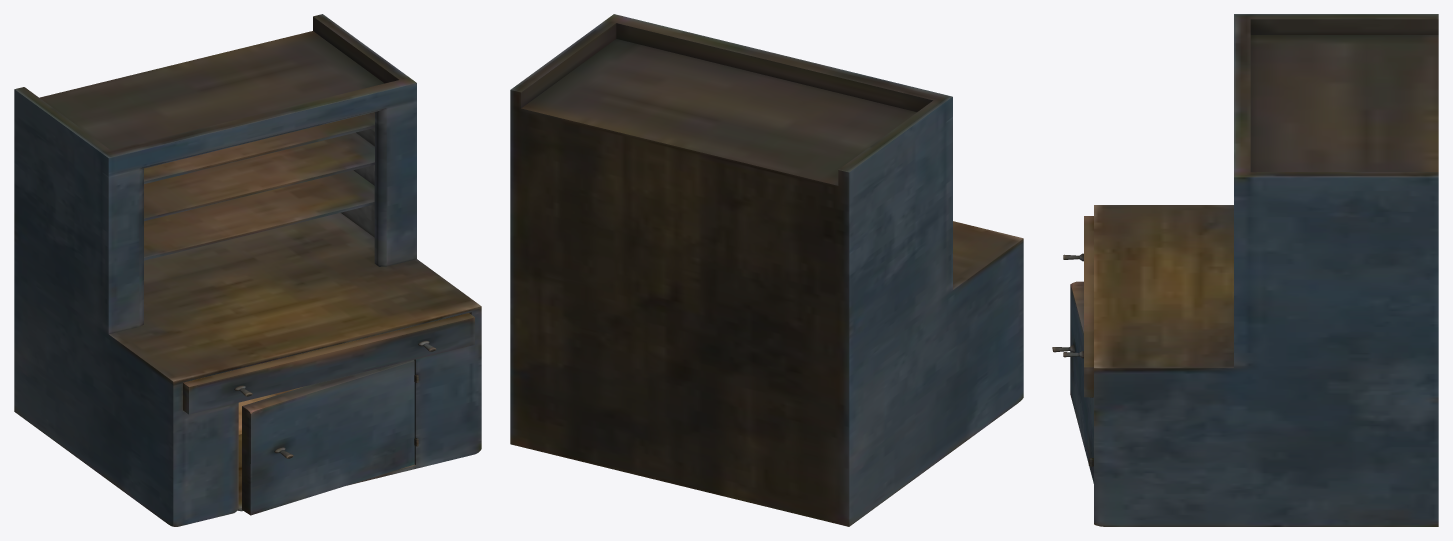
The model's file is ph-painted-wooden-cabinet-02.glb.
3 views of the same model, side by side, from view 1: azimuth 30°, elevation 25°; view 2: azimuth 150°, elevation 25°; view 3: azimuth 270°, elevation 25° (orthographic). The views are drawn at different scales.
Parts seen in each view (by area): view 1: painted_wooden_cabinet_02; view 2: painted_wooden_cabinet_02; view 3: painted_wooden_cabinet_02.
Part boxes in pixels (left/top/right/bottom): painted_wooden_cabinet_02: left=14, top=14, right=481, bottom=526; painted_wooden_cabinet_02: left=510, top=14, right=1023, bottom=526; painted_wooden_cabinet_02: left=1052, top=14, right=1438, bottom=526.
Size of the model in its own units: 1 by 1 by 1.
Materials: 1 (1 with a texture image).
